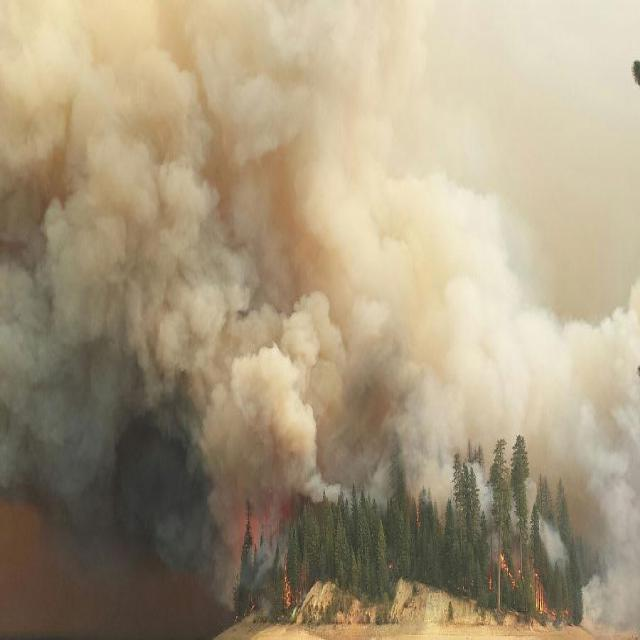fire: (222, 486, 312, 606), (489, 544, 548, 609)
smoke: (2, 4, 560, 500)
